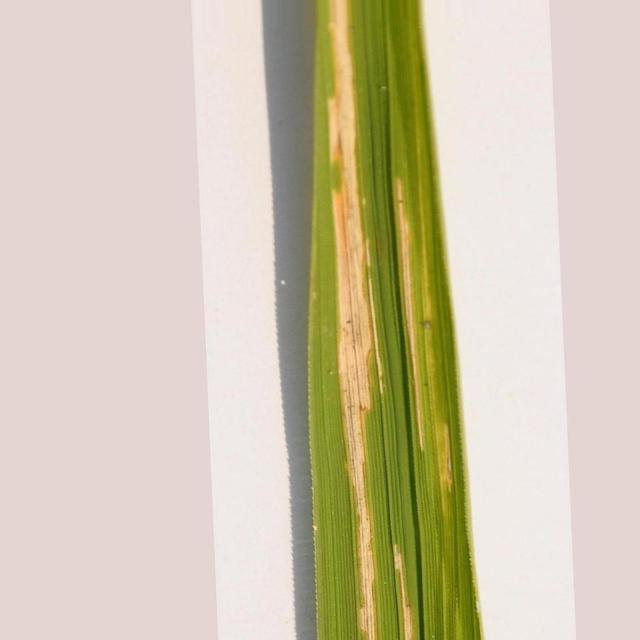Bacterial_Leaf_Blight: (328, 0, 378, 640), (395, 179, 416, 381), (392, 544, 414, 640)
